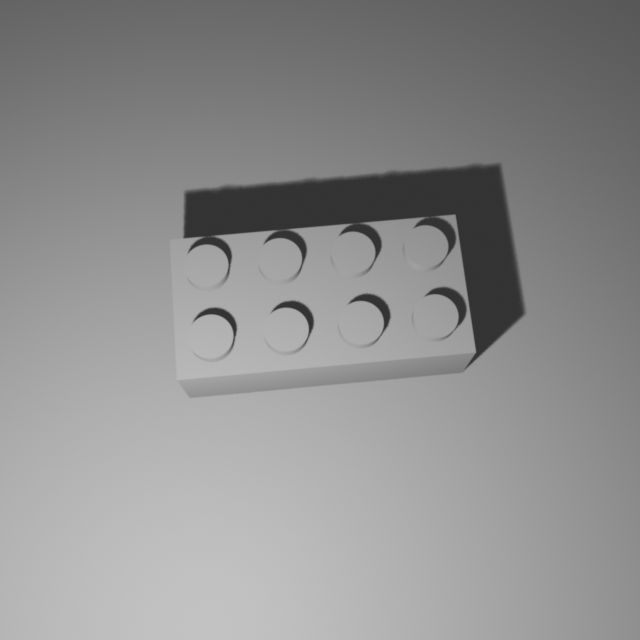lego_2x4: (167, 209, 479, 398)
